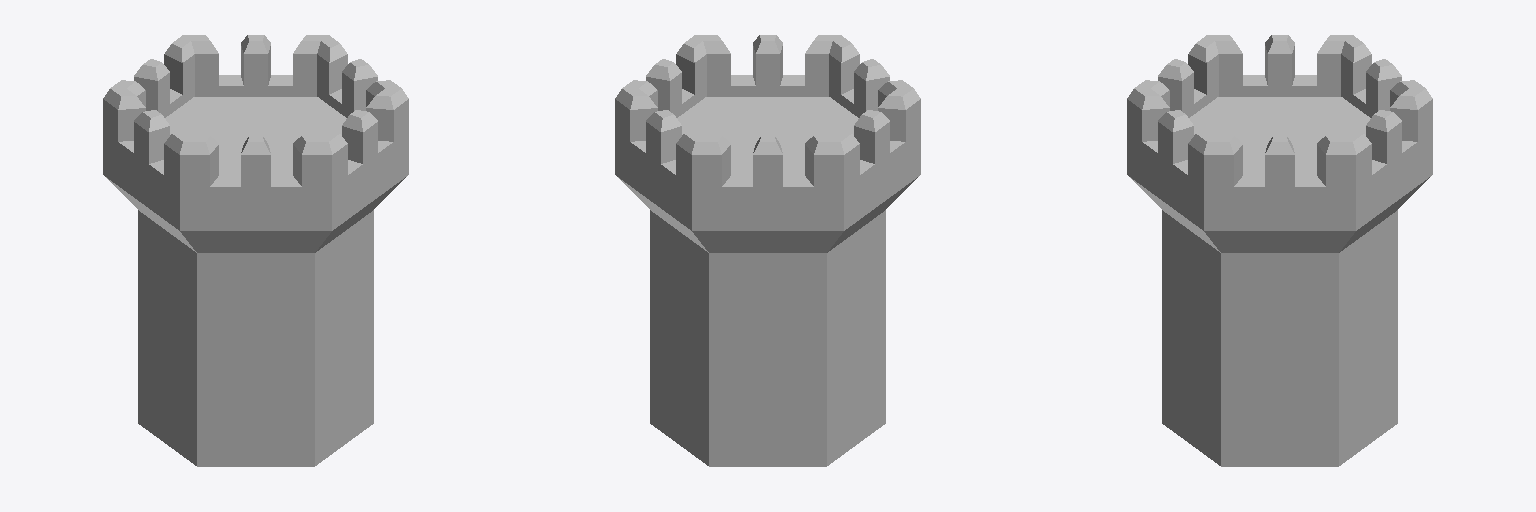
Rendered from CastleTower.obj.
3 views of the same model, side by side, from view 1: azimuth 30°, elevation 25°; view 2: azimuth 150°, elevation 25°; view 3: azimuth 270°, elevation 25° (orthographic).
Visible parts, largest first — view 1: Tower; view 2: Tower; view 3: Tower.
Part boxes in pixels (bbox=[...]): Tower: bbox=[103, 35, 408, 466]; Tower: bbox=[615, 35, 920, 466]; Tower: bbox=[1127, 35, 1432, 466].
Bounding box in the file's own units: 68.06 × 95.01 × 78.58.